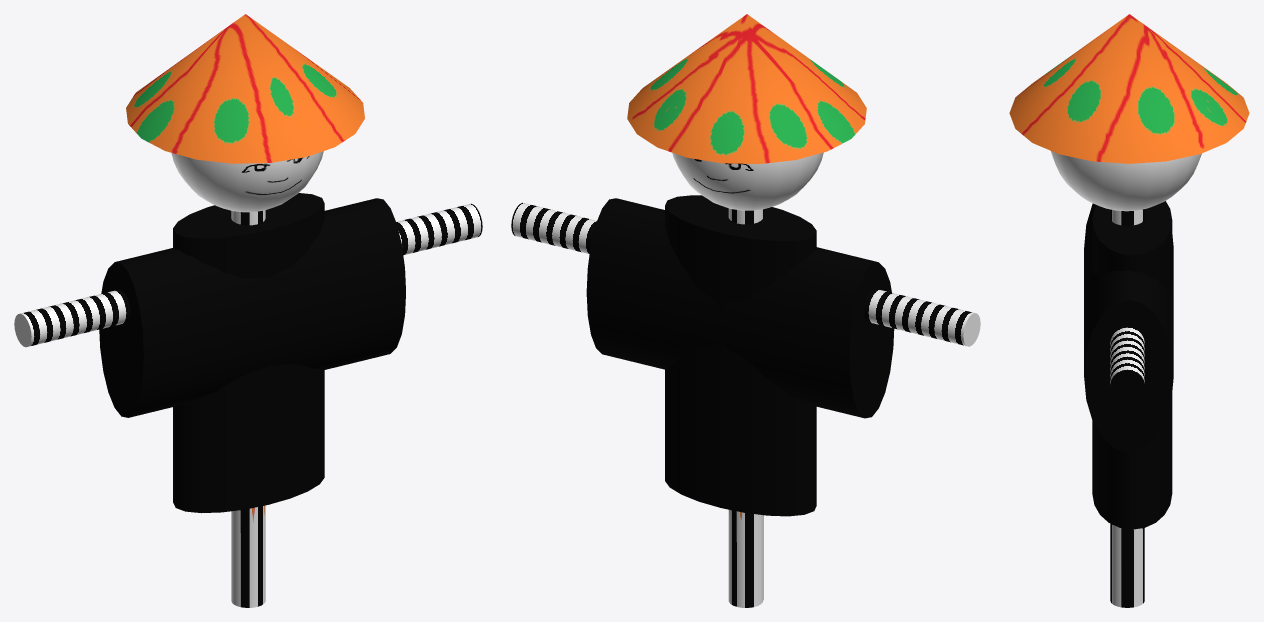
Rendered from kakasi.fbx.
3 renders of one model, left to right at view 1: azimuth 30°, elevation 25°; view 2: azimuth 150°, elevation 25°; view 3: azimuth 270°, elevation 25°, orthographic.
Parts seen in each view (by area): view 1: polySurface1; view 2: polySurface1; view 3: polySurface1.
Part boxes in pixels (x1,y1,x2,y2): polySurface1: (14, 14, 482, 607); polySurface1: (511, 14, 980, 607); polySurface1: (1009, 14, 1249, 607).
Size of the model in its own units: 8.48 by 10.53 by 3.91.
3 materials, 3 textured.
